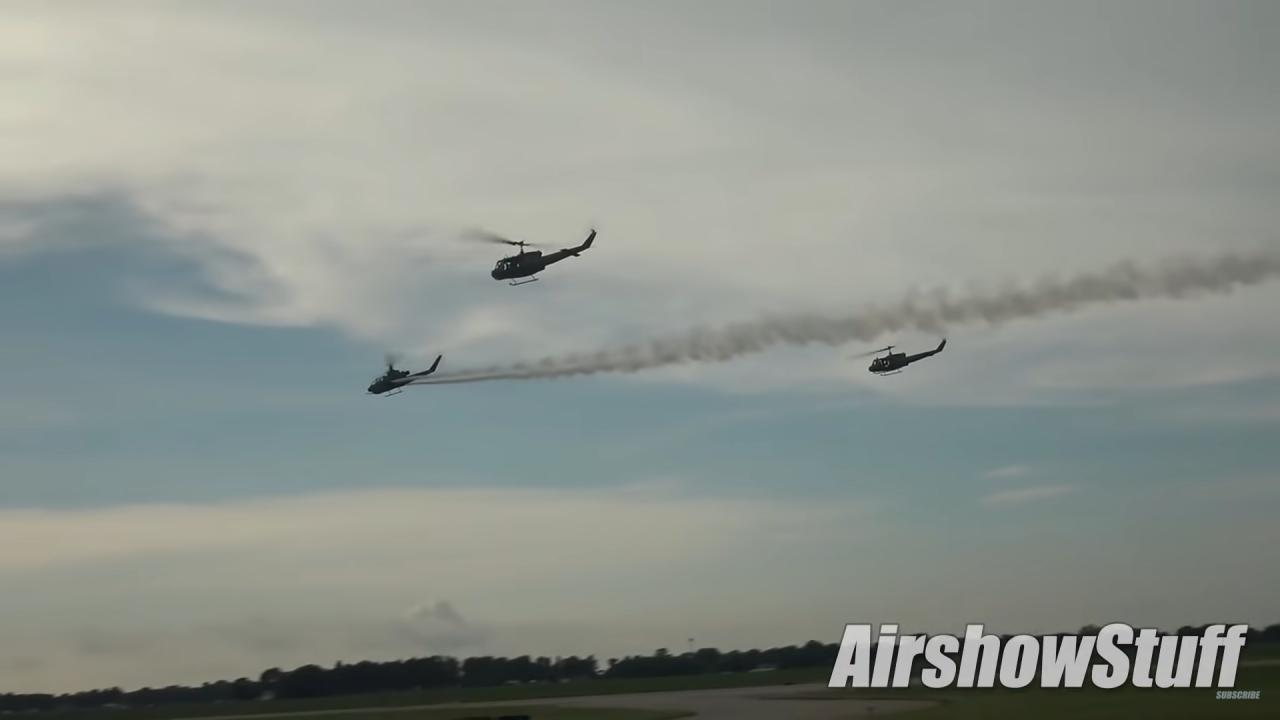Helicopter: (444, 202, 615, 307), (338, 335, 469, 420), (833, 318, 967, 400)
